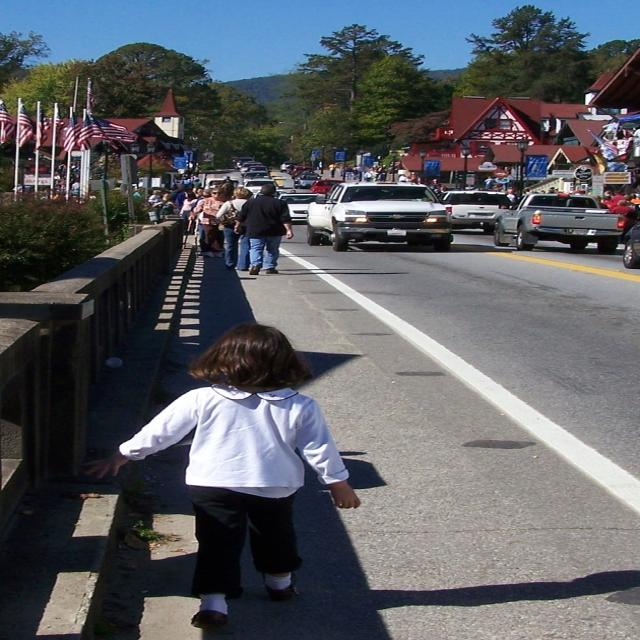car: (491, 192, 622, 252)
